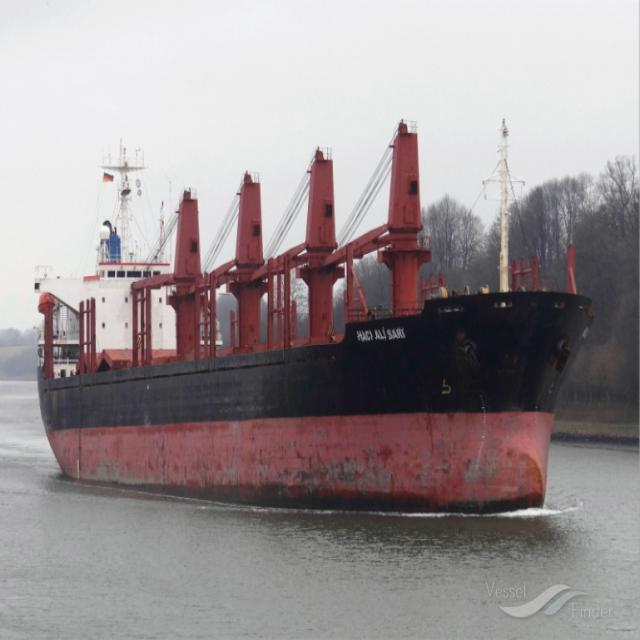OCR: (352, 323, 411, 351)
